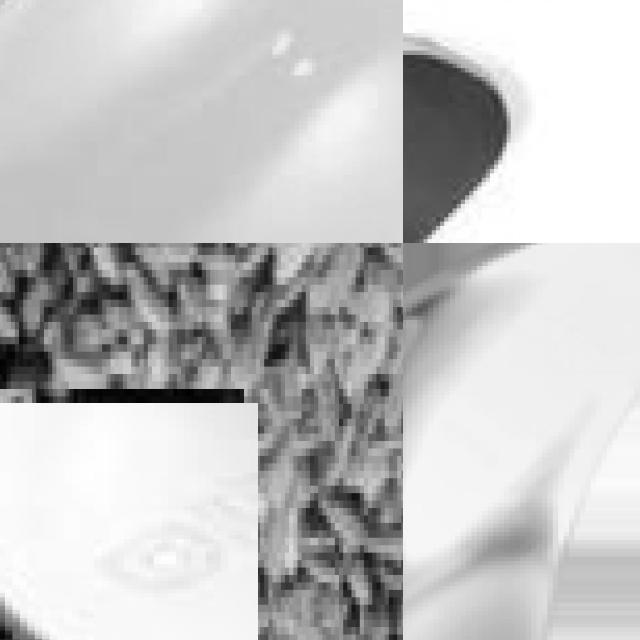spoons: (0, 0, 403, 243), (403, 243, 640, 640), (0, 396, 251, 640)
